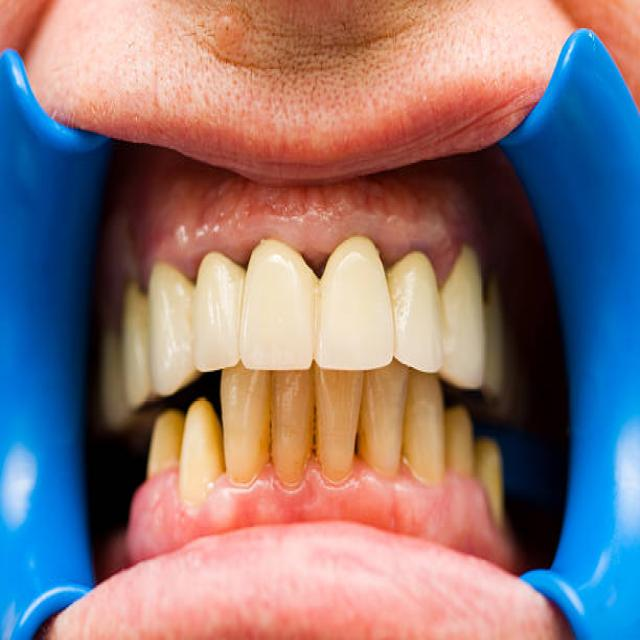calculus: (301, 405, 334, 486), (254, 403, 286, 480), (392, 424, 418, 498), (354, 410, 377, 484), (174, 474, 216, 512), (140, 445, 186, 478)
